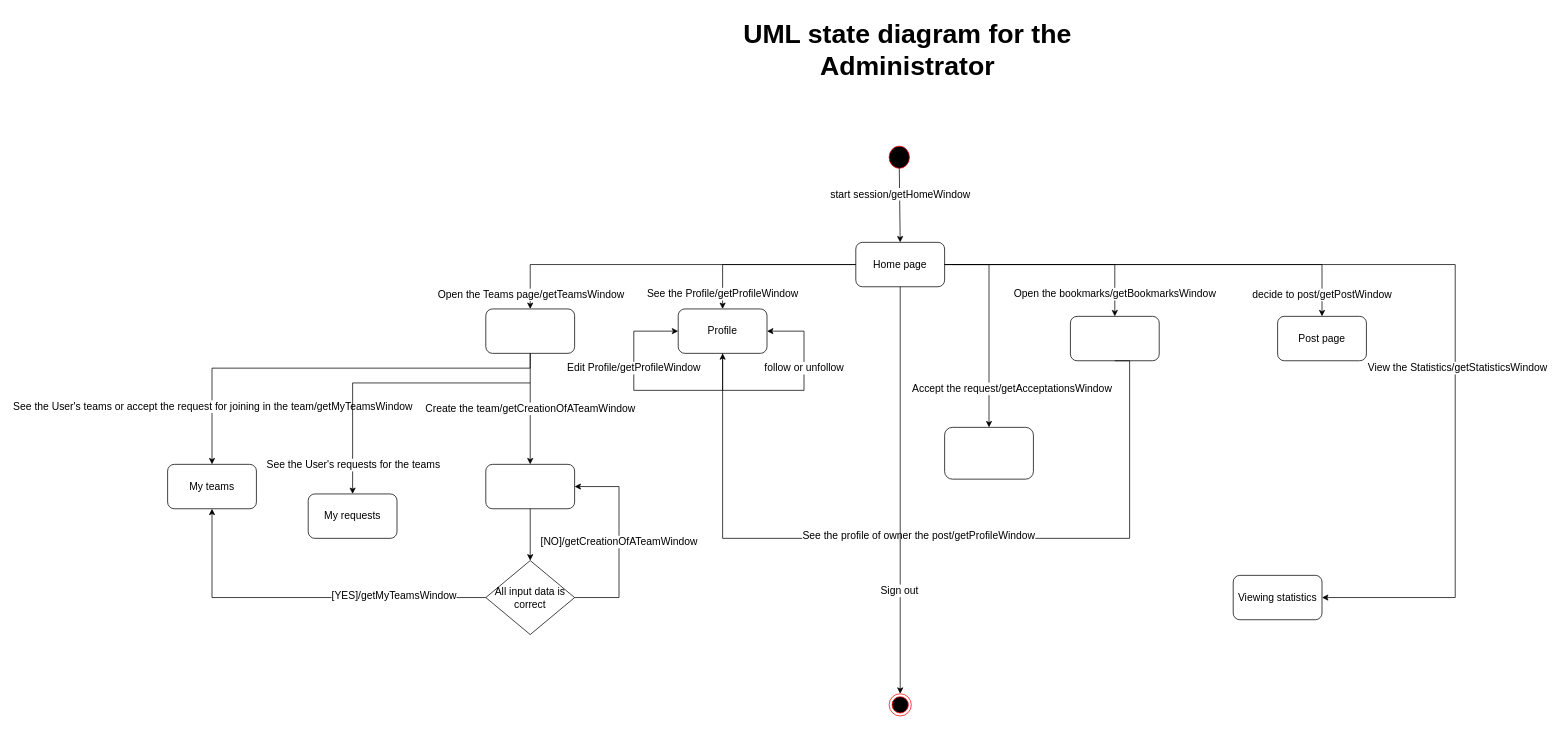
The diagram is 1560 pixels wide and 729 high, and some of its shapes have lost their labels. The shapes that lost their labels are listed below. From the top down, each one's box as (x1, y1, x2, y2) in pixels, then its label:
(485, 308, 575, 353): Teams
(1070, 316, 1159, 361): Bookmarks
(944, 427, 1033, 479): Acceptations of requests for becoming a publisher
(485, 464, 575, 509): Creation of a team
